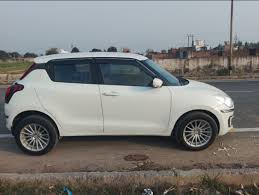Swift: (2, 52, 238, 152)
